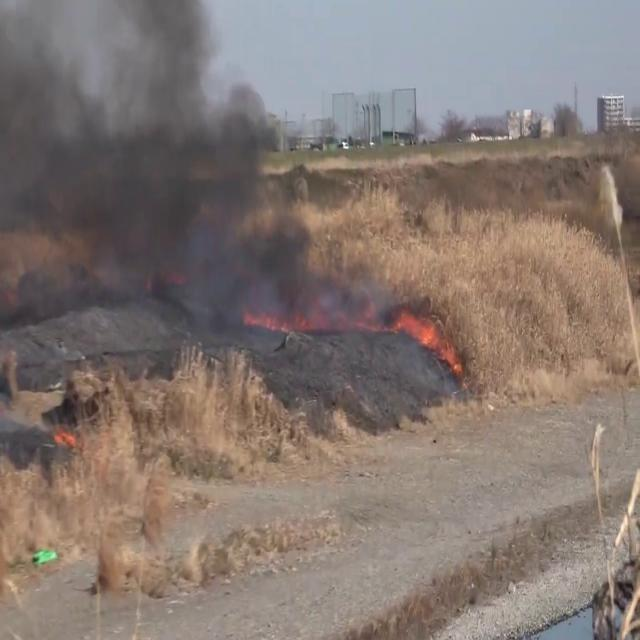Fire: (392, 306, 461, 372)
Smoke: (0, 0, 342, 403)
